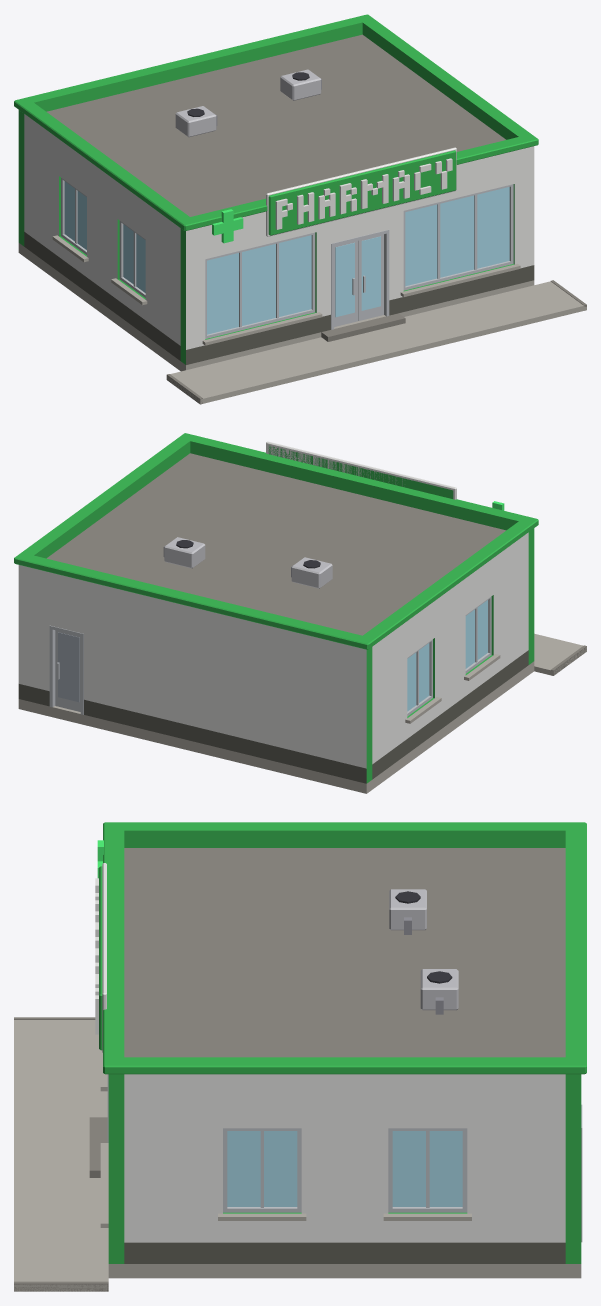
File: Pharmacy.fbx
3 views of the same model, one above another, from view 1: azimuth 30°, elevation 25°; view 2: azimuth 150°, elevation 25°; view 3: azimuth 270°, elevation 25° (orthographic). The views are drawn at different scales.
Parts seen in each view (by area): view 1: Pharmacy, Pharmacy_Roof, Pharmacy_Glass, Pharmacy_Sign, Pharmacy_DoorR, Pharmacy_DoorL; view 2: Pharmacy, Pharmacy_Roof, Pharmacy_Sign, Pharmacy_Glass, Pharmacy_BackDoor; view 3: Pharmacy, Pharmacy_Roof, Pharmacy_Glass, Pharmacy_Sign.
Part boxes in pixels (<box>): Pharmacy: <box>14,14,586,404</box>; Pharmacy_Roof: <box>46,34,505,216</box>; Pharmacy_Glass: <box>64,181,509,334</box>; Pharmacy_Sign: <box>212,147,456,243</box>; Pharmacy_DoorR: <box>358,234,383,320</box>; Pharmacy_DoorL: <box>334,240,357,326</box>; Pharmacy: <box>14,433,586,793</box>; Pharmacy_Roof: <box>46,453,505,635</box>; Pharmacy_Sign: <box>266,441,504,510</box>; Pharmacy_Glass: <box>407,600,487,711</box>; Pharmacy_BackDoor: <box>55,630,80,711</box>; Pharmacy: <box>14,822,586,1291</box>; Pharmacy_Roof: <box>124,848,565,1057</box>; Pharmacy_Glass: <box>227,1131,462,1206</box>; Pharmacy_Sign: <box>95,840,106,1052</box>.
Size of the model in its own units: 40 by 16.13 by 36.35.
Materials: 1 (1 with a texture image).
